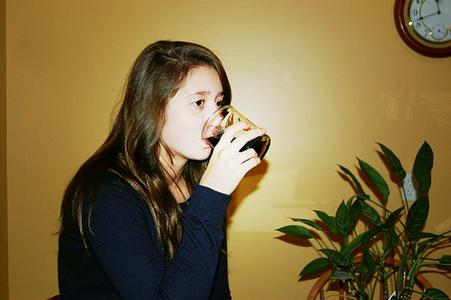person: (55, 40, 267, 300)
